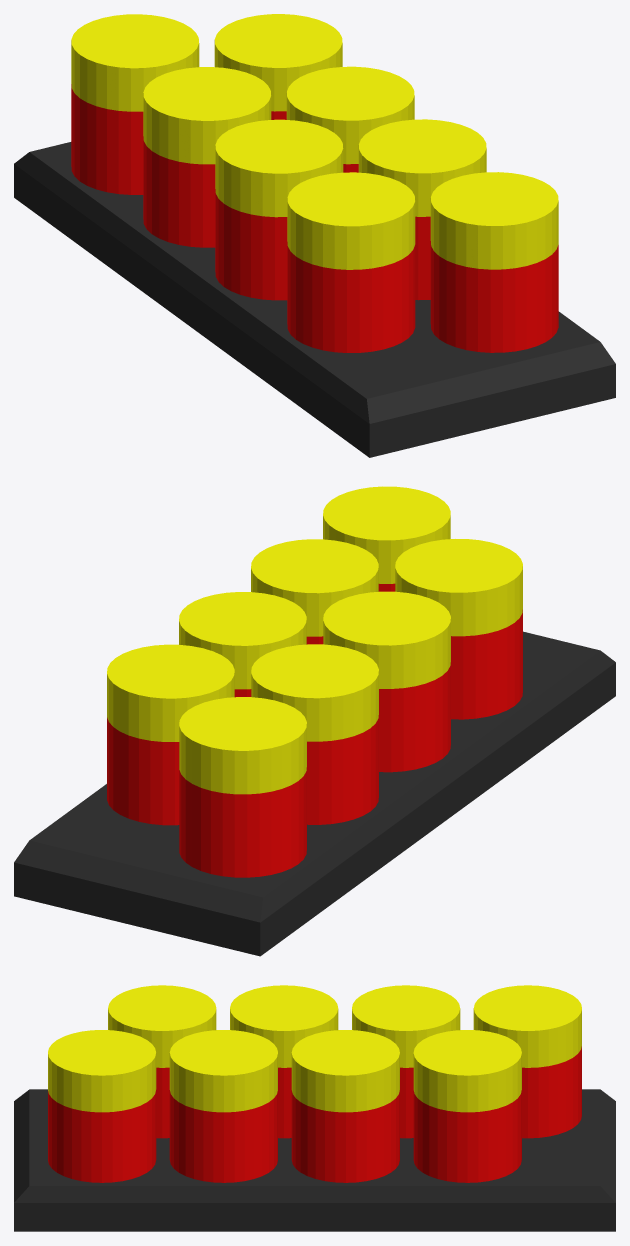
Rendered from se_ammo_shells.fbx.
3 renders of one model, top to bottom at view 1: azimuth 30°, elevation 25°; view 2: azimuth 150°, elevation 25°; view 3: azimuth 270°, elevation 25°, orthographic. The views are drawn at different scales.
Parts seen in each view (by area): view 1: Cube; view 2: Cube; view 3: Cube.
Part boxes in pixels (x1=…): Cube: x1=14, y1=14, x2=615, y2=457; Cube: x1=14, y1=486, x2=615, y2=956; Cube: x1=14, y1=985, x2=615, y2=1231.
Bounding box in the file's own units: 0.8 × 0.5509 × 2.
